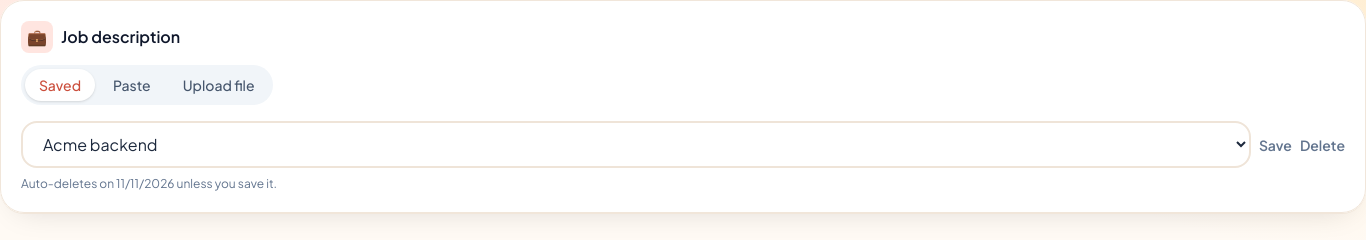
it: saved documents › saves a document so it is kept past 30 days
This screenshot has width=1366, height=240.
Expected: the text "Auto-deletes on 11/11/2026 unless you save it." is shown, x1=21 y1=176 x2=277 y2=191
Click the button with aria-label "Save this job posting" at (1275, 144), box x1=1259 y1=134 x2=1292 y2=154
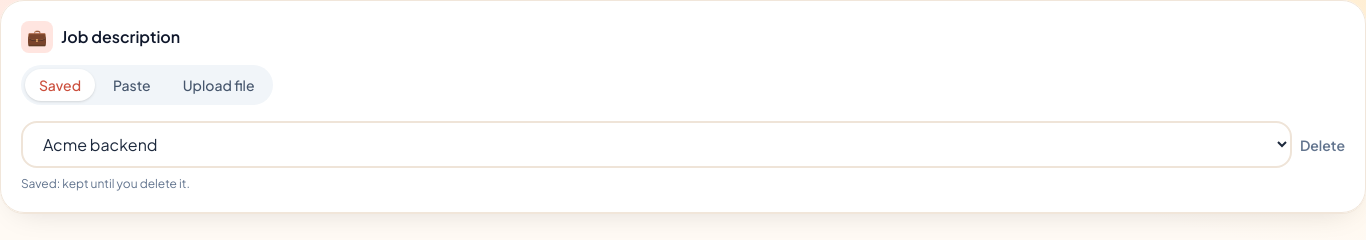
Expected: the text "Saved: kept until you delete it." is shown, x1=21 y1=176 x2=190 y2=191
